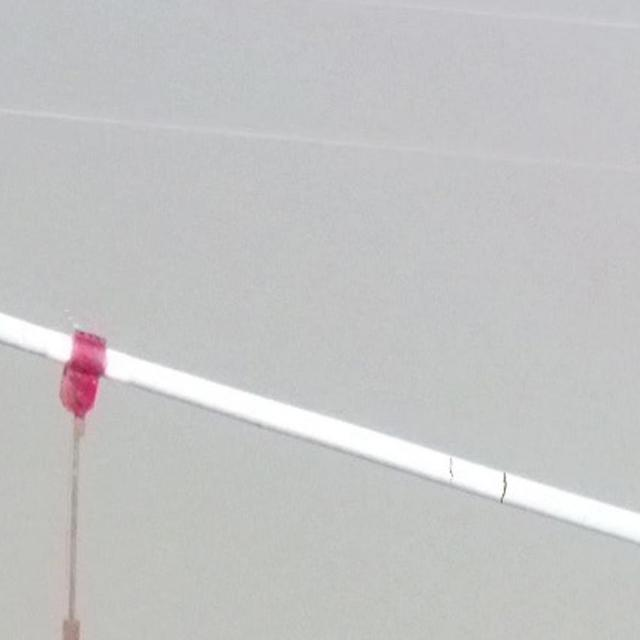crack: (500, 472, 508, 504), (447, 458, 455, 488)
